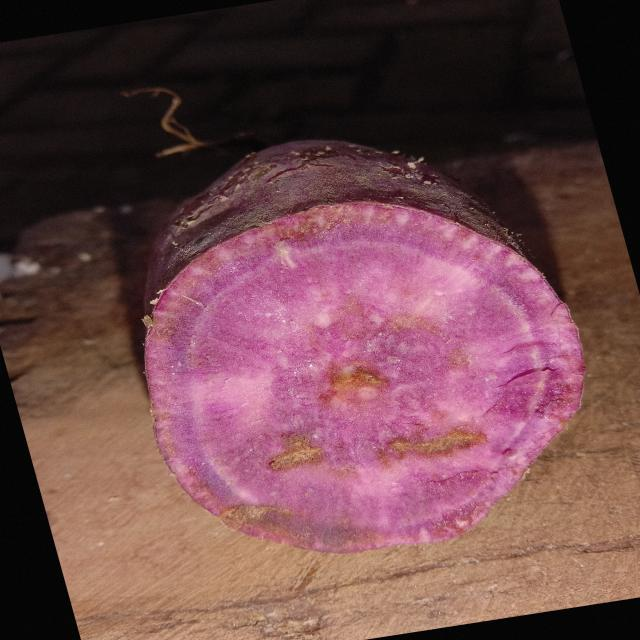Sick Sweet Potato_Tuber Rot: (145, 204, 583, 552)
